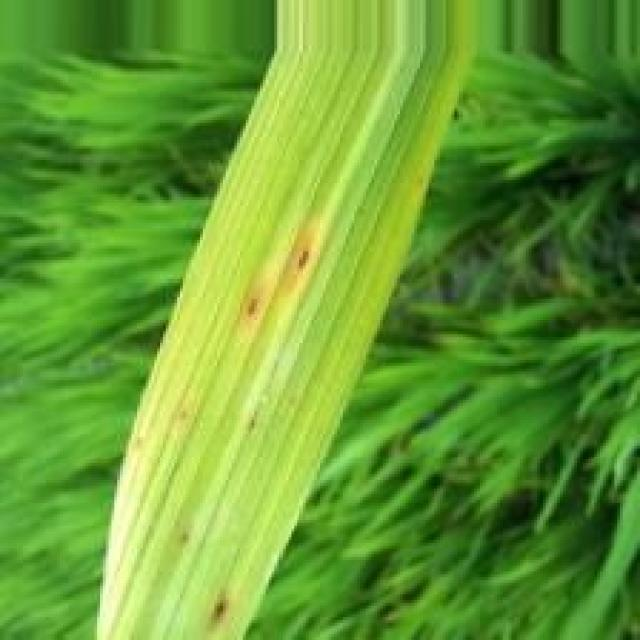Brown_Spot: (200, 586, 234, 633), (234, 289, 268, 333), (287, 241, 317, 286)
